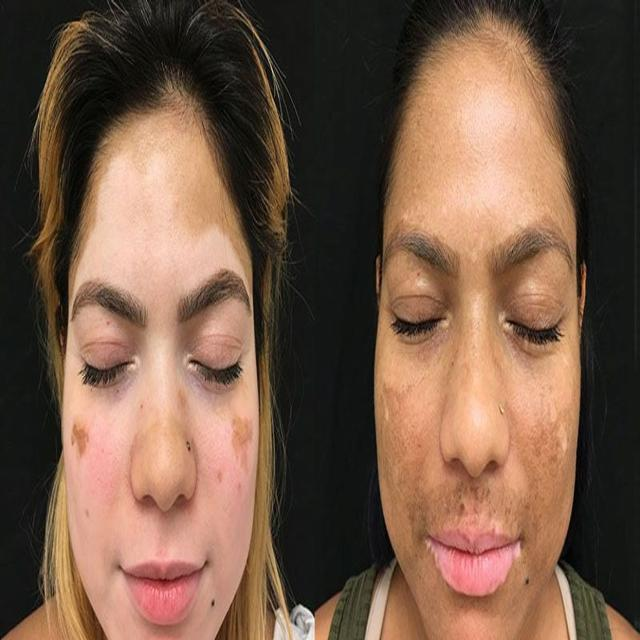vitiligo: (153, 116, 214, 278), (202, 407, 257, 506), (62, 402, 114, 478), (92, 139, 145, 212)
